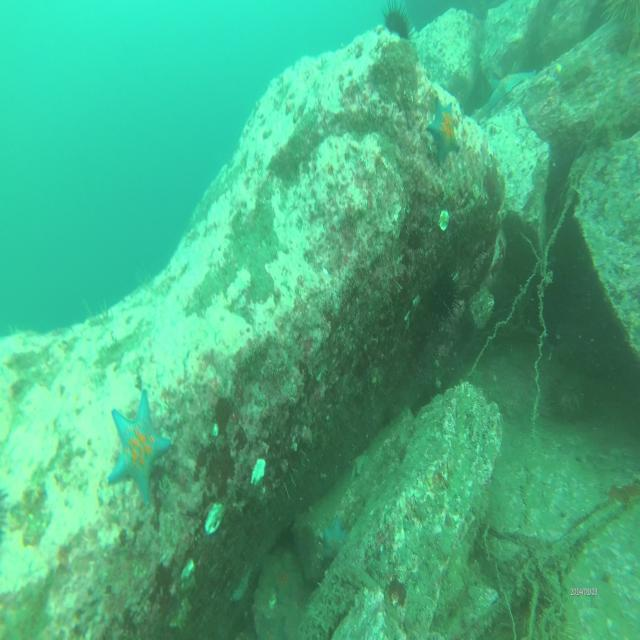echinus: (381, 0, 410, 43)
starfish: (108, 395, 174, 509), (428, 96, 462, 168)
